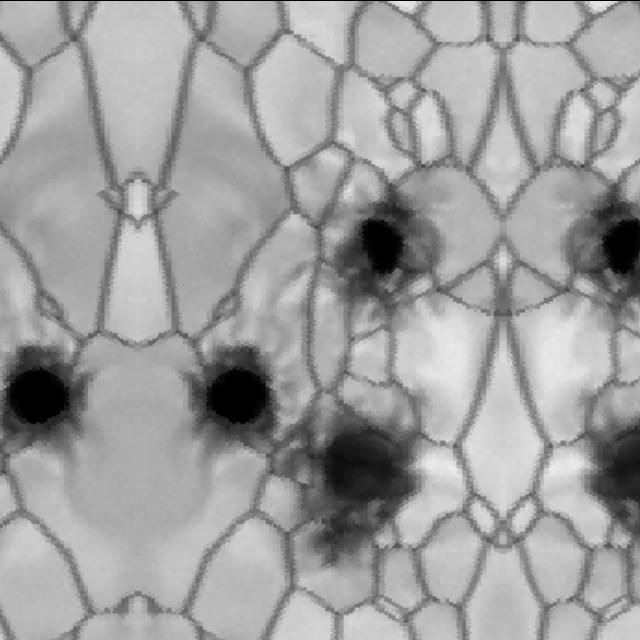good_void: (167, 328, 429, 579), (280, 192, 444, 326), (0, 328, 107, 471), (561, 192, 640, 326), (576, 393, 640, 554)
